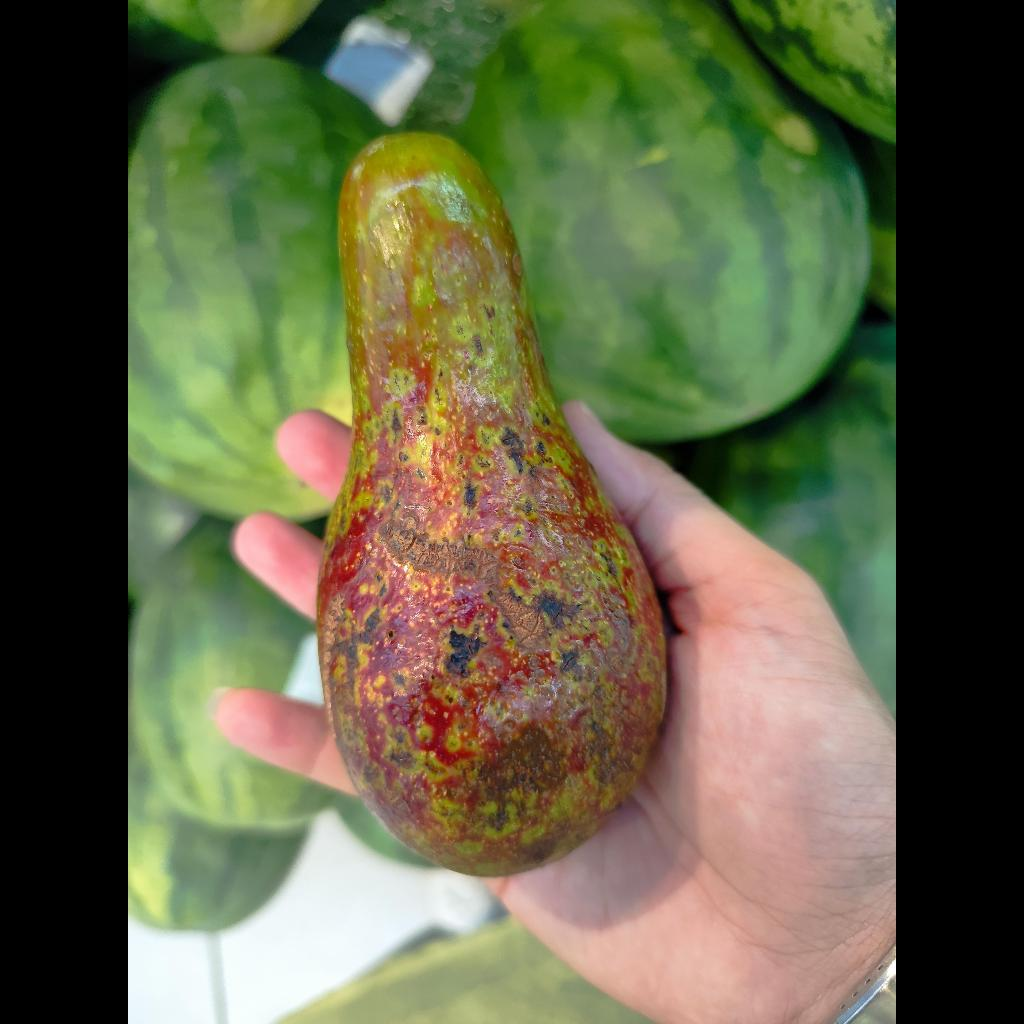anthracnose: (317, 134, 666, 874)
